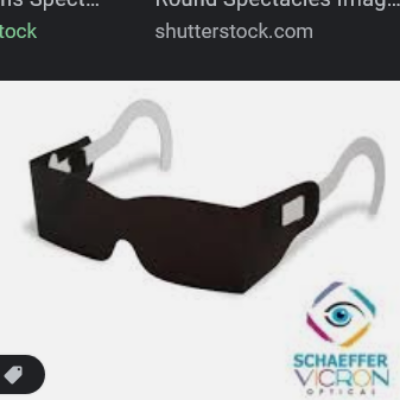glasses: (29, 96, 387, 296)
